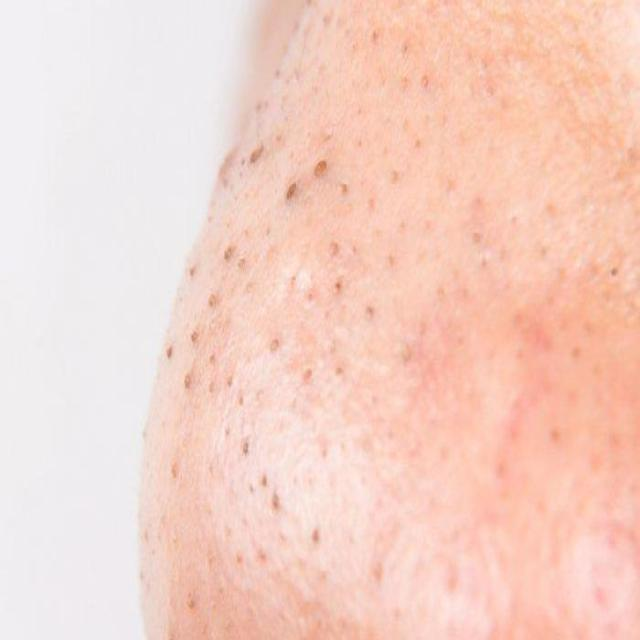blackhead: (148, 140, 371, 598)
